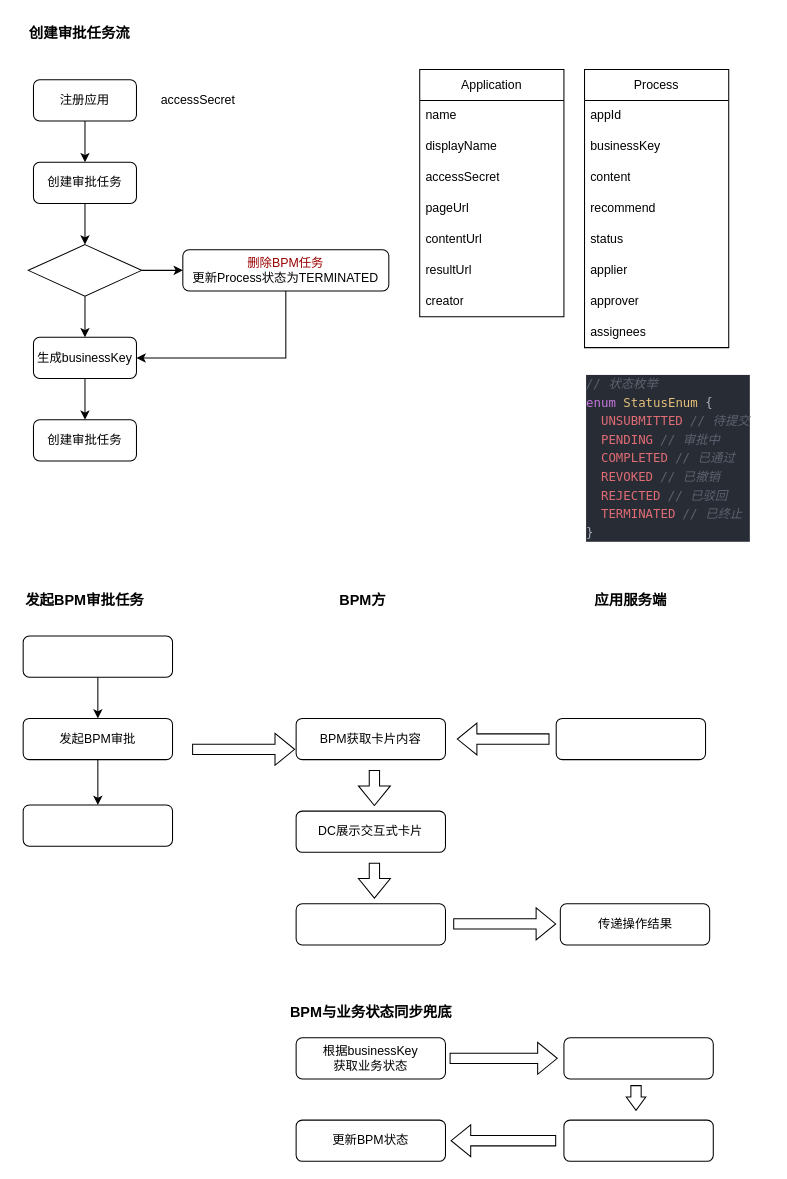
This 787x1179 diagram has some shape labels left out. The centre of each missing label's shape, as x and y in pixels:
业务PENDING状态: the point at 638,1140
业务流程状态: the point at 638,1058
卡片内容数据结构: the point at 630,738
卡片操作: the point at 370,924
找到状态为UNSUBMITTED的应用: the point at 97,656
是否有审批中任务: the point at 84,270
更新审批流状态为PENDING: the point at 97,825
